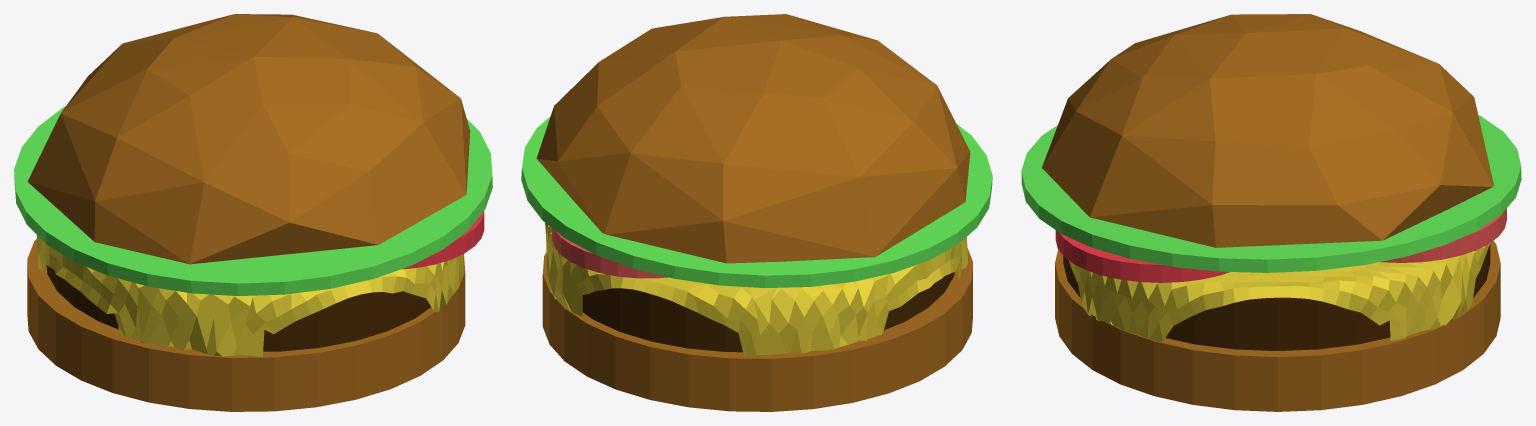
File: 14535687-9ba6-4487-a199-cee4f0b4b927-burger.glb
3 renders of one model, left to right at view 1: azimuth 30°, elevation 25°; view 2: azimuth 150°, elevation 25°; view 3: azimuth 270°, elevation 25°, orthographic. The views are drawn at different scales.
Visible parts, largest first — view 1: Sphere, Cylinder.001, Cylinder.006, Plane, Cylinder.002, Cylinder.003; view 2: Sphere, Cylinder.001, Plane, Cylinder.006, Cylinder.002, Cylinder.005; view 3: Sphere, Cylinder.001, Plane, Cylinder.006, Cylinder.002, Cylinder.003, Cylinder.005.
Part boxes in pixels (left/top/right/bottom): Sphere: left=27, top=14, right=470, bottom=264; Cylinder.001: left=27, top=239, right=465, bottom=411; Cylinder.006: left=14, top=106, right=492, bottom=295; Plane: left=37, top=235, right=464, bottom=356; Cylinder.002: left=46, top=265, right=430, bottom=351; Cylinder.003: left=402, top=211, right=484, bottom=269; Sphere: left=536, top=14, right=970, bottom=263; Cylinder.001: left=542, top=248, right=972, bottom=411; Plane: left=545, top=222, right=968, bottom=355; Cylinder.006: left=521, top=116, right=992, bottom=287; Cylinder.002: left=582, top=272, right=954, bottom=352; Cylinder.005: left=552, top=228, right=668, bottom=278; Sphere: left=1042, top=14, right=1493, bottom=247; Cylinder.001: left=1055, top=241, right=1500, bottom=411; Plane: left=1069, top=243, right=1490, bottom=341; Cylinder.006: left=1021, top=115, right=1521, bottom=272; Cylinder.002: left=1063, top=244, right=1490, bottom=350; Cylinder.003: left=1055, top=230, right=1229, bottom=282; Cylinder.005: left=1380, top=208, right=1506, bottom=262.
Bounding box in the file's own units: 2.17 × 1.39 × 2.24.
